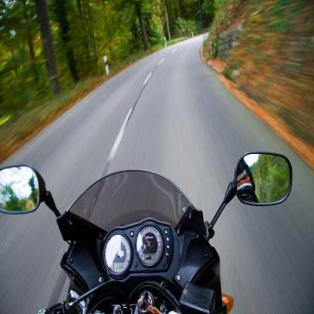Motocicleta: (0, 138, 296, 314)
